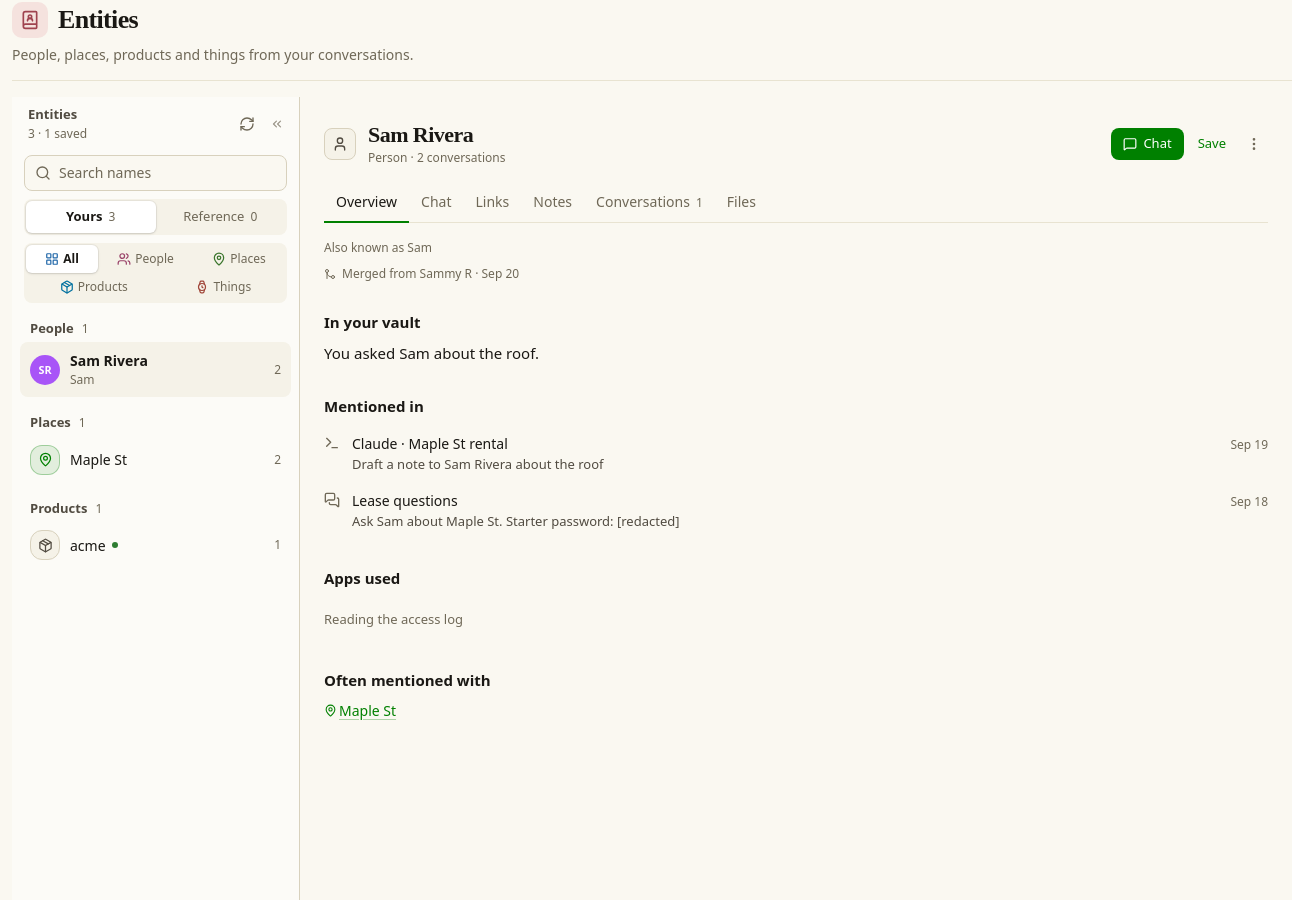
Test: Entities view › the list collapses like the other sidebars
Click the button named "Collapse entities": x=277, y=124 [263,110,291,138]
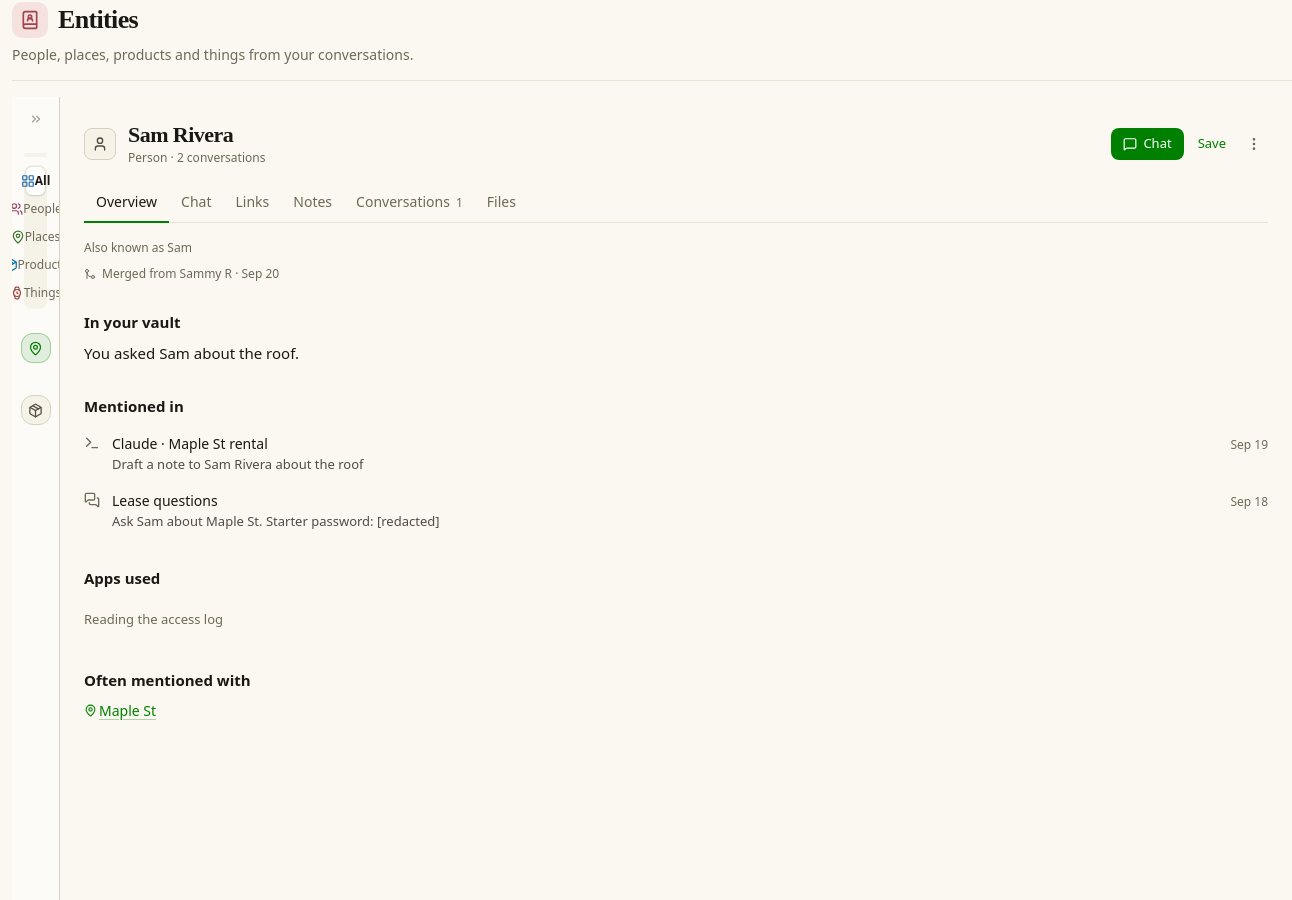
Check: the element with test id "spine-collapsed" is shown, box [12,97,60,899]
Click the button named "Show entities": x=36, y=119 [22,105,50,133]
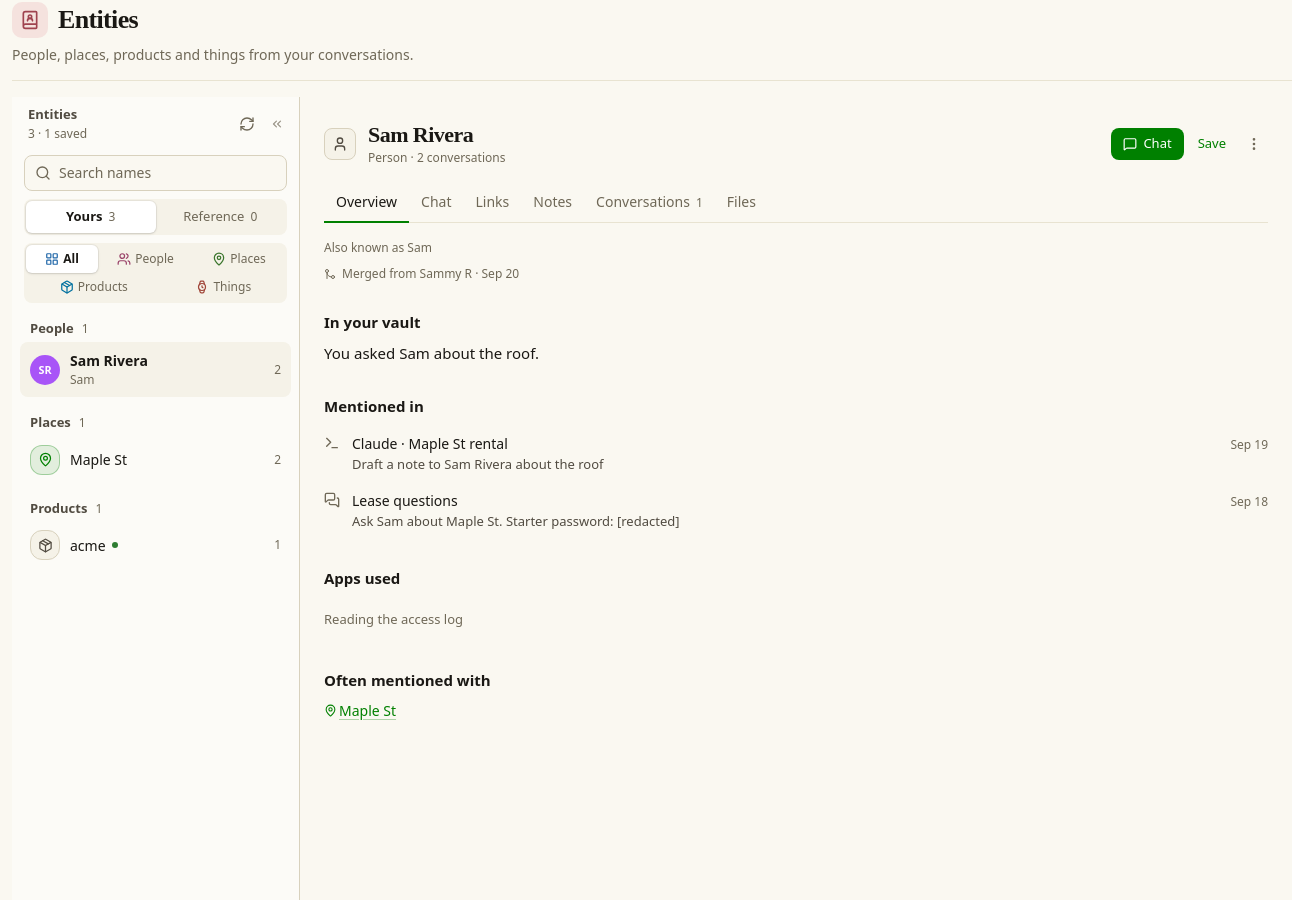
Check: the number of buttons with test id "entity-row" is 3, box [20,342,291,397]; [20,437,291,483]; [20,522,291,568]
